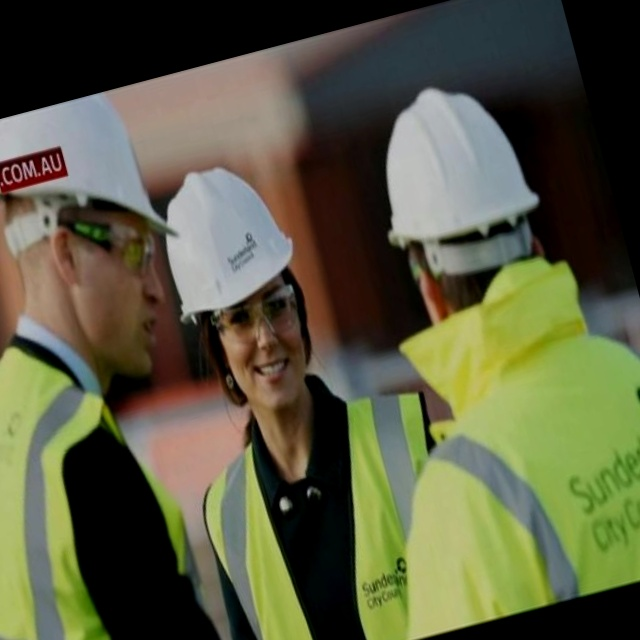Con_Casco: (159, 162, 339, 419)
Con_Chaleco: (190, 392, 470, 640)
